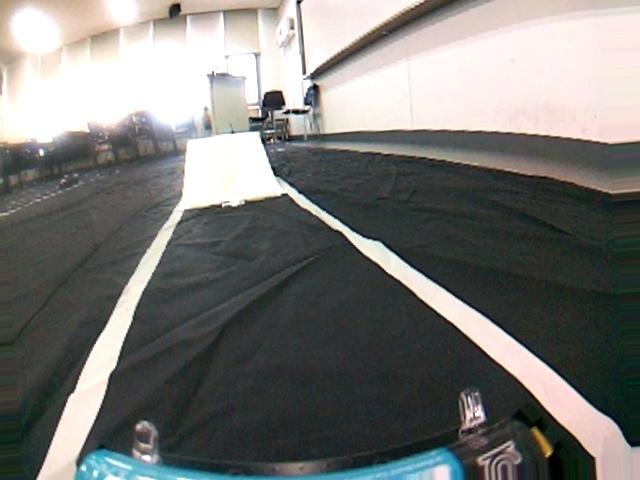hill_up: (178, 130, 284, 209)
straight: (0, 189, 639, 480)
